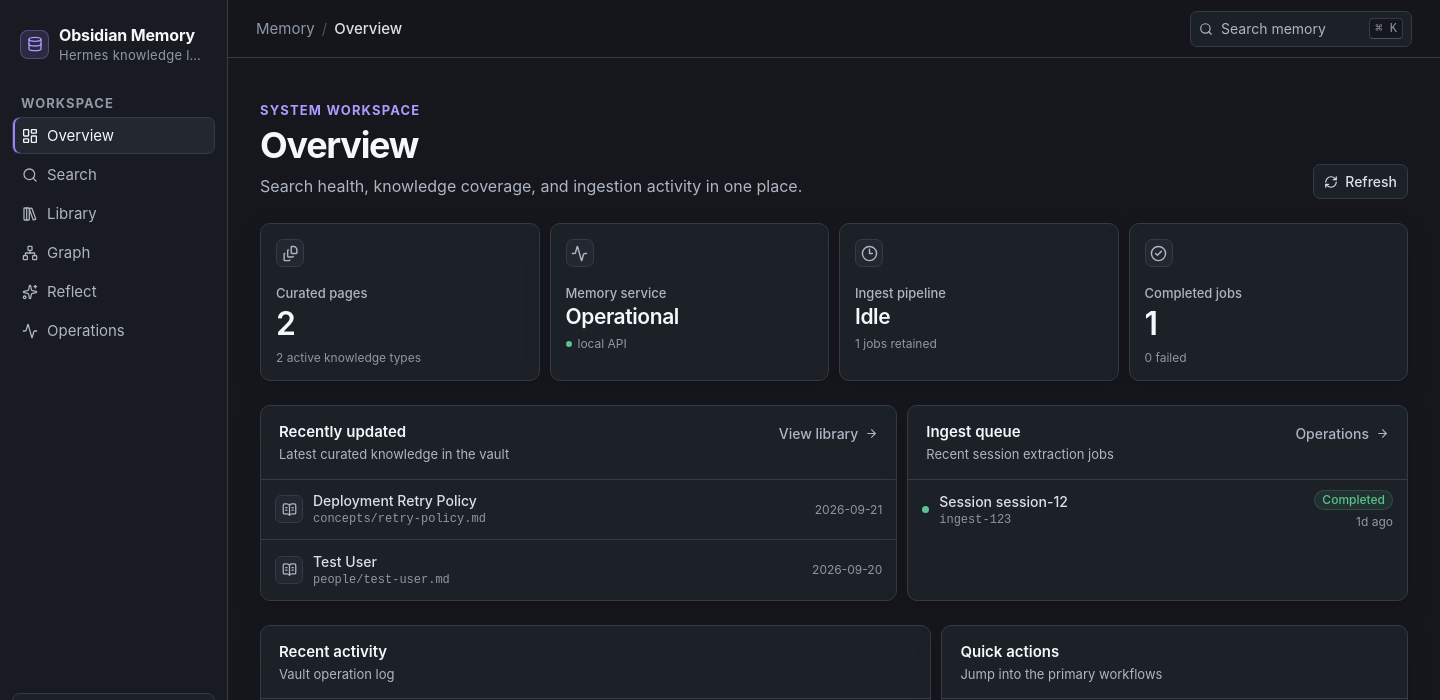
Memory workspace shell › browses the library and opens a page
Click the button "Library".
click(114, 214)  # box x1=12 y1=195 x2=215 y2=232
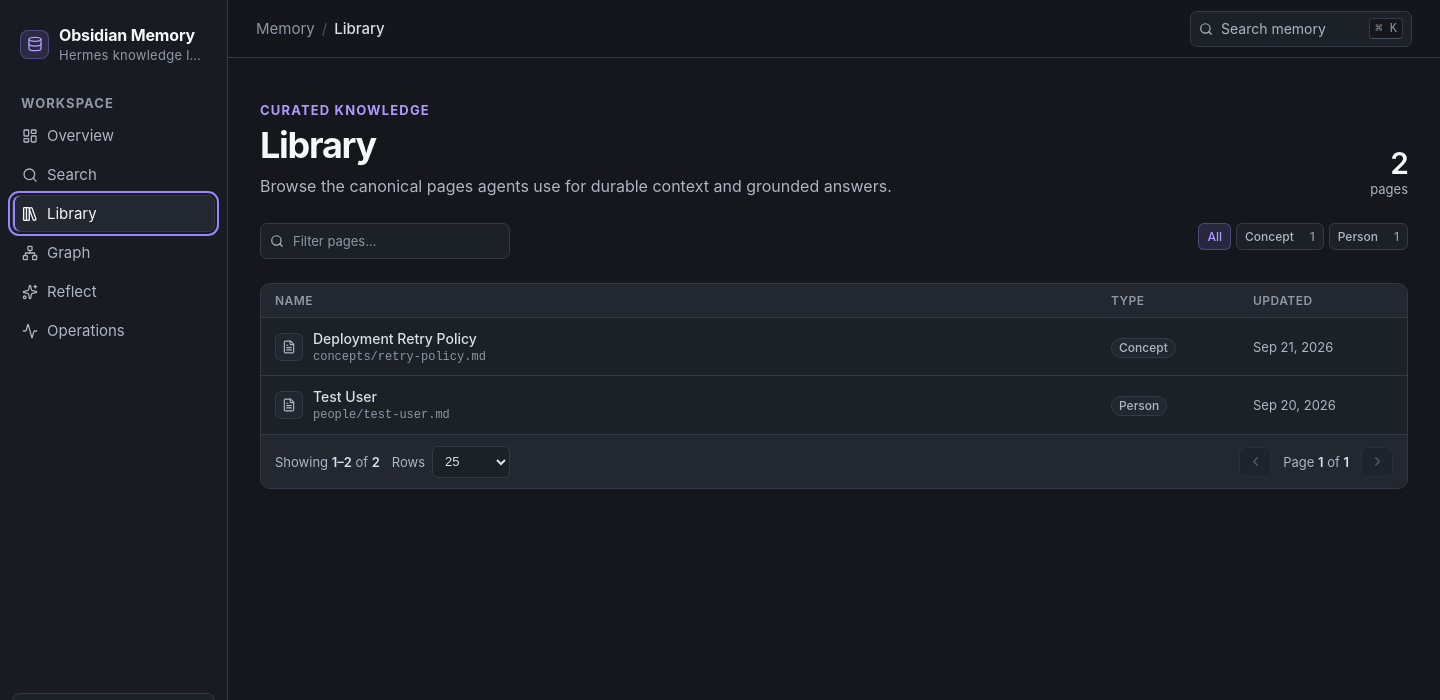
Expected: the text "Deployment Retry Policy" is shown, x1=313 y1=330 x2=486 y2=347
Click the button "Deployment Retry Policy".
click(395, 338)  # box x1=261 y1=318 x2=1407 y2=376
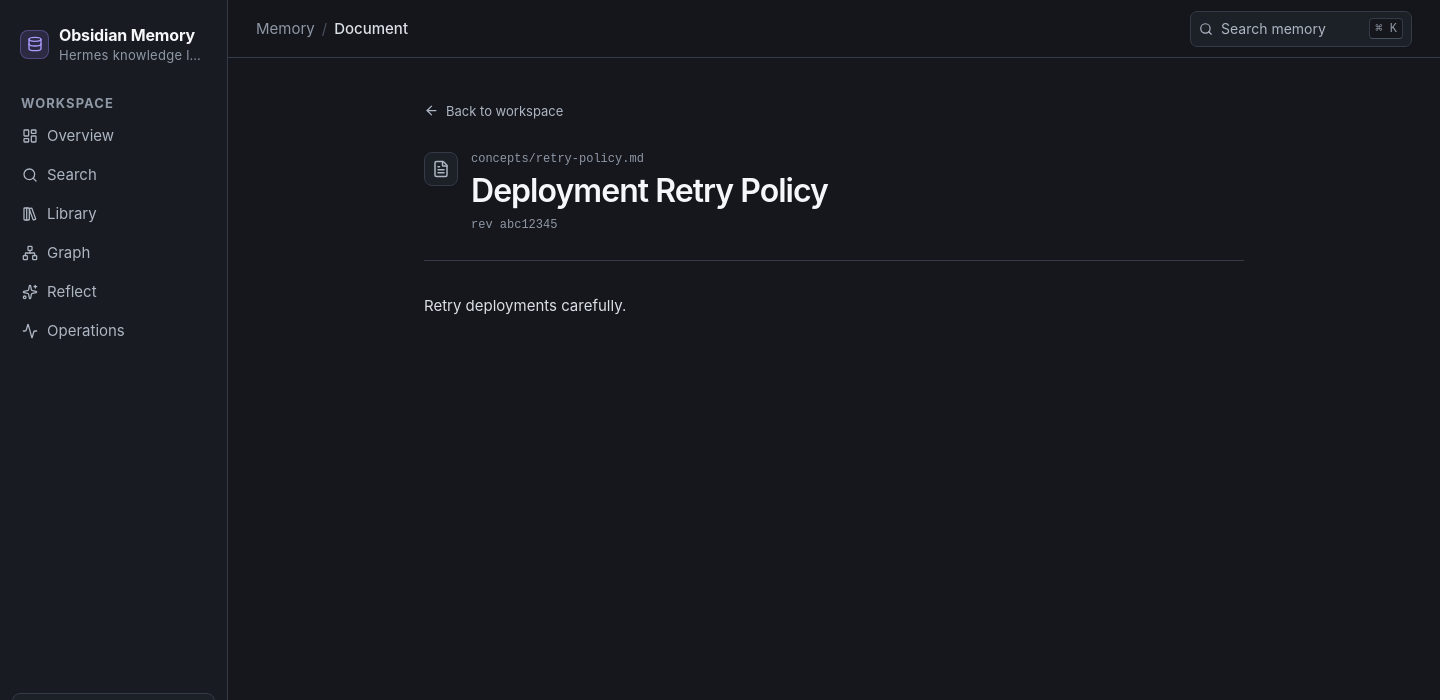
Expected: the element that starts with "Back to workspace" shows "Retry deployments carefully.", x1=424 y1=296 x2=626 y2=315
